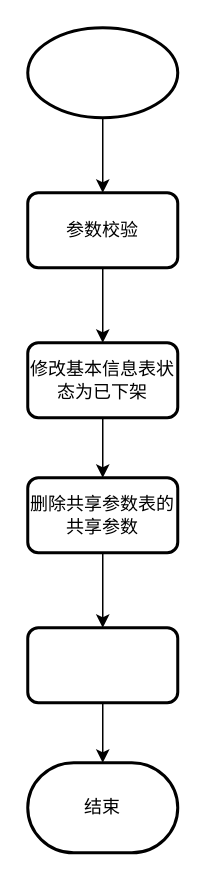
This 204x879 diagram has some shape labels left out. The shapes that lost their labels are listed below. From the top down, each one's centre as x and y in pixels, then its label:
At pixel 102 72: "开始".
At pixel 102 665: "删除任务".
